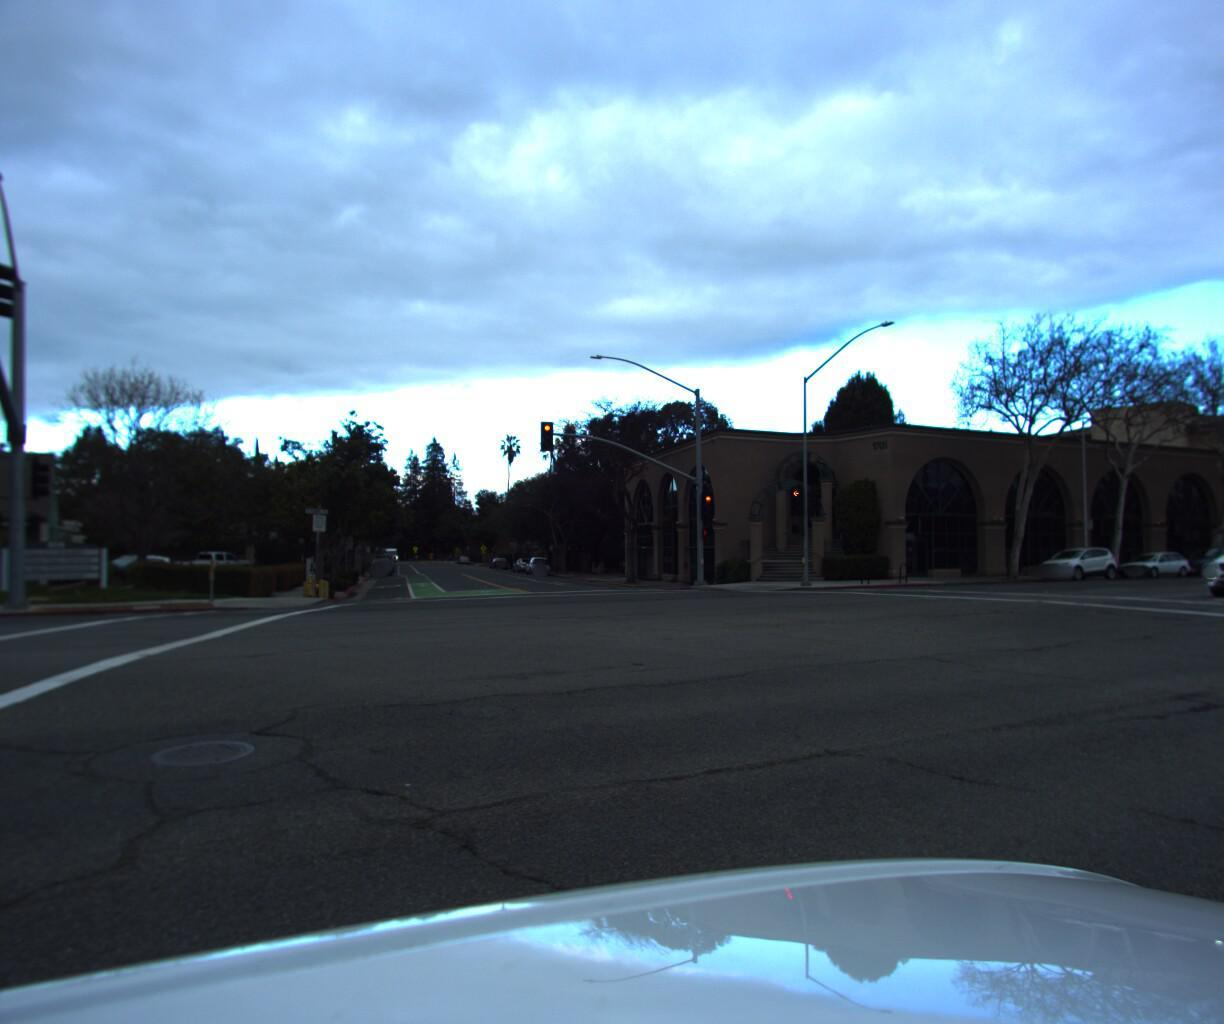car: (1024, 540, 1118, 579), (1186, 525, 1224, 599), (170, 549, 257, 579), (1105, 546, 1187, 577), (1167, 540, 1224, 575), (521, 551, 553, 575), (512, 554, 539, 570), (368, 554, 391, 573)
